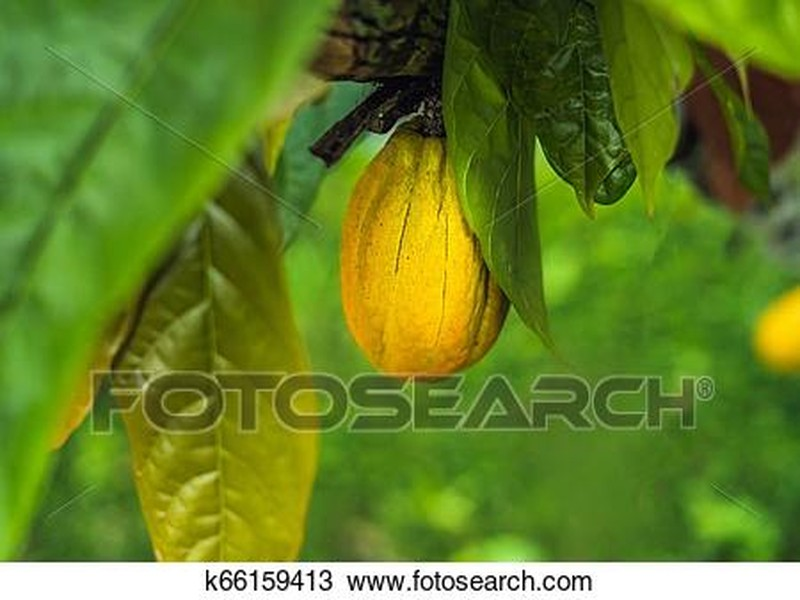Cacaopod: (336, 121, 509, 383)
